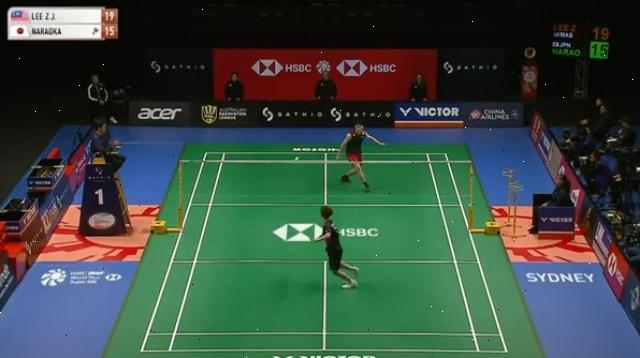Shuttlecock: (292, 154, 302, 164)
